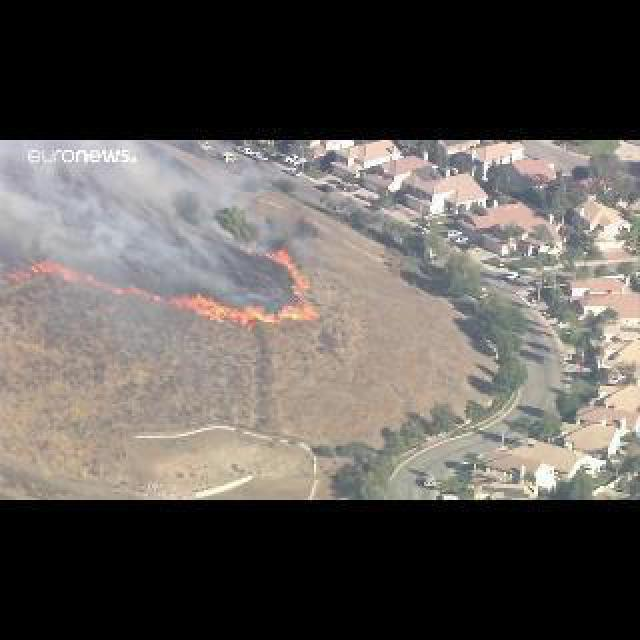Fire: (10, 262, 162, 304), (166, 294, 318, 326), (272, 244, 310, 292)
